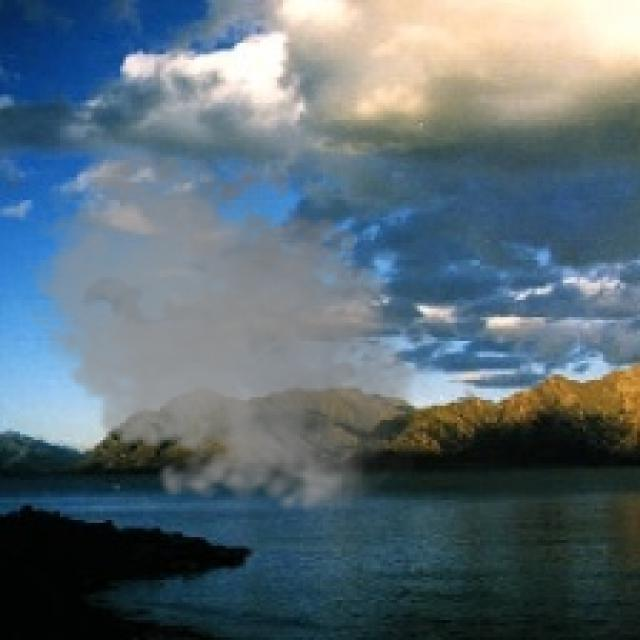smoke: (20, 143, 446, 523)
